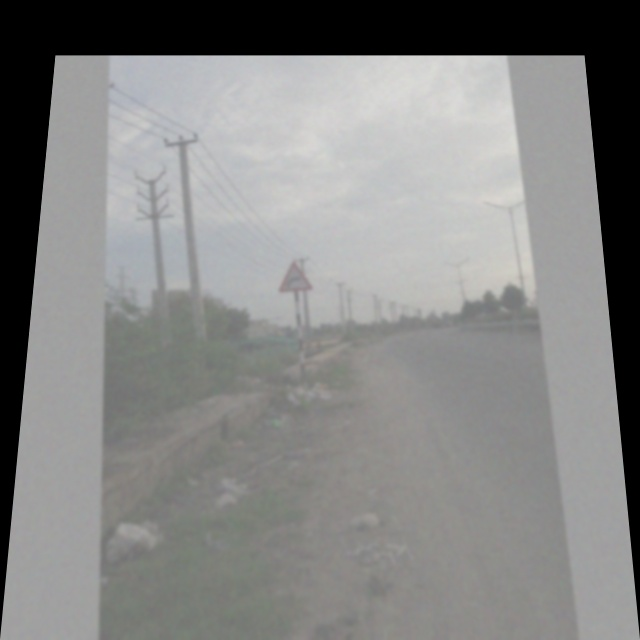Right_Hand_Curve: (276, 259, 314, 297)
